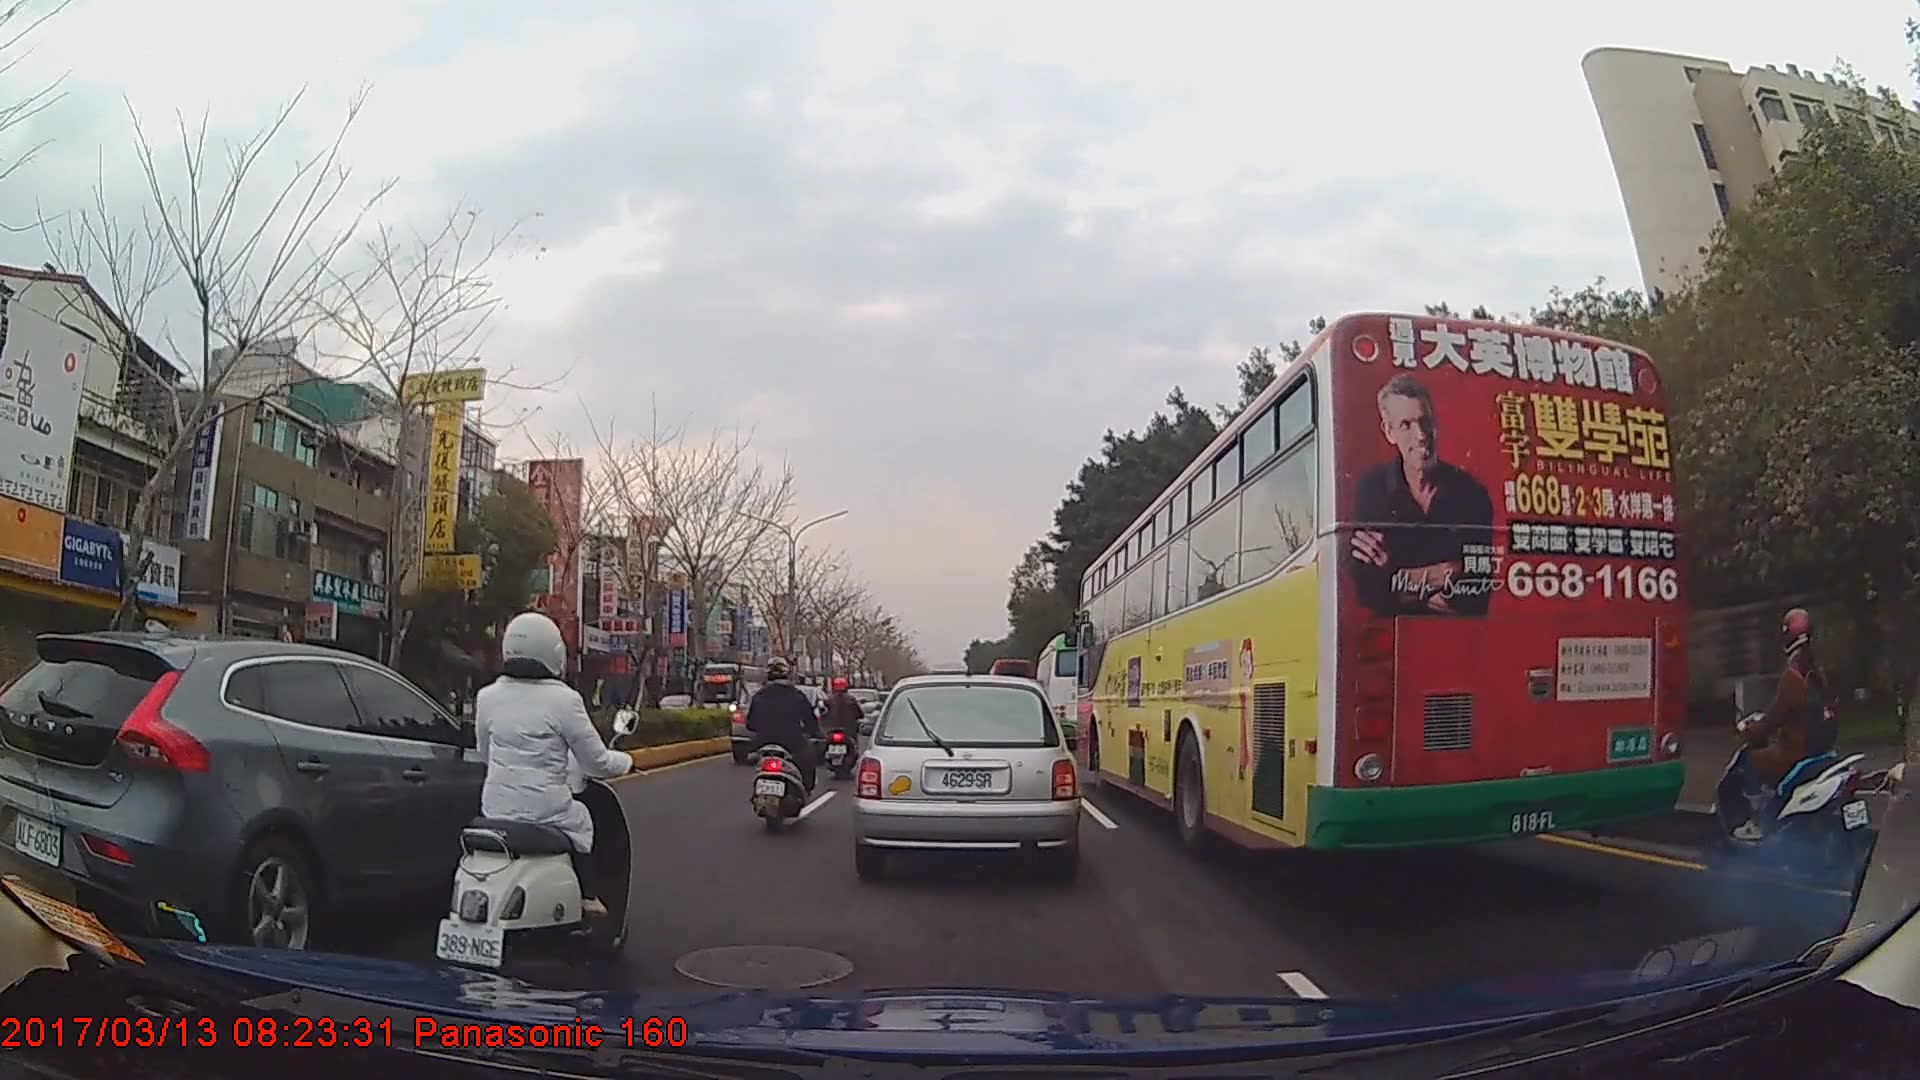rider: (440, 608, 642, 977), (1695, 605, 1873, 877), (1847, 543, 1920, 1023), (745, 660, 818, 836), (821, 678, 864, 776)
vehicle: (1073, 312, 1685, 859), (0, 632, 565, 968), (855, 671, 1078, 878), (1032, 629, 1122, 748), (727, 683, 830, 764), (695, 662, 761, 728)
